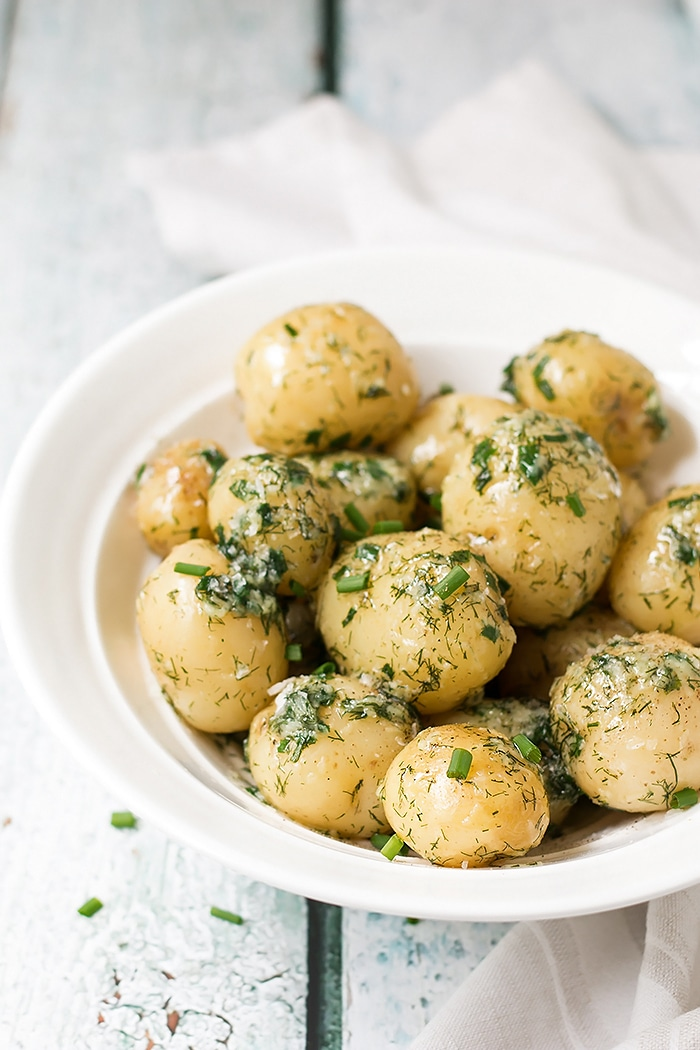boiled potatoes: (209, 376, 676, 816)
